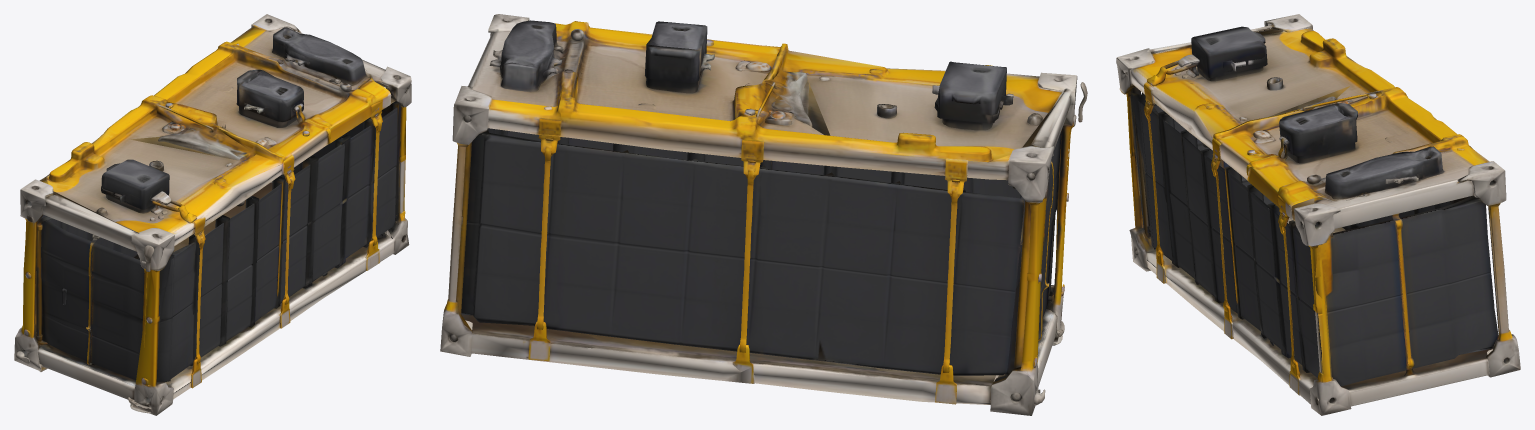
The model's file is sat3_4.fbx.
3 views of the same model, side by side, from view 1: azimuth 30°, elevation 25°; view 2: azimuth 150°, elevation 25°; view 3: azimuth 270°, elevation 25° (orthographic). The views are drawn at different scales.
Parts seen in each view (by area): view 1: tripo_node_6a384249; view 2: tripo_node_6a384249; view 3: tripo_node_6a384249.
Boxes of the visible parts, x1,y1,x2,y2 form: tripo_node_6a384249: (14,14,411,415); tripo_node_6a384249: (440,14,1087,415); tripo_node_6a384249: (1116,14,1520,415).
Bounding box in the file's own units: 0.9995 × 0.5405 × 0.7739.
